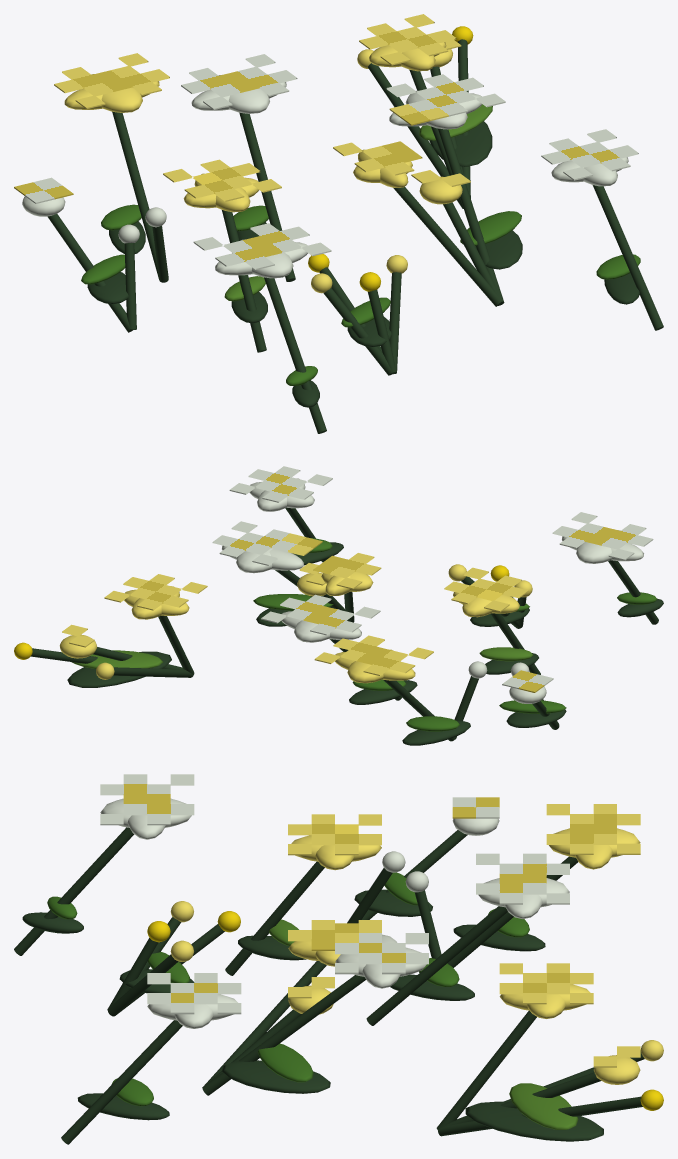
Rendered from CMU3DFlowersy1.glb.
3 views of the same model, one above another, from view 1: azimuth 30°, elevation 25°; view 2: azimuth 150°, elevation 25°; view 3: azimuth 270°, elevation 25° (orthographic). The views are drawn at different scales.
Visible parts, largest first — view 1: bloom 9 original petal colors, bloom 3 original petal colors, bloom 16 original petal colors, bloom 6 original petal colors, bloom 5 original petal colors, bloom 11 original petal colors, bloom 15 original petal colors, bloom 12 original petal colors, bloom 15 branching stem, bloom 12 branching stem, bloom 9 branching stem, bloom 16 branching stem (+30 smaller); view 2: bloom 9 original petal colors, bloom 16 original petal colors, bloom 3 original petal colors, bloom 6 original petal colors, bloom 15 original petal colors, bloom 5 original petal colors, bloom 11 original petal colors, bloom 12 original petal colors, foliage 1 low leaf, foliage 1 raised leaf, foliage 2 low leaf, foliage 3 low leaf (+30 smaller); view 3: bloom 9 original petal colors, bloom 16 original petal colors, bloom 6 original petal colors, bloom 3 original petal colors, bloom 15 original petal colors, foliage 1 low leaf, bloom 5 original petal colors, bloom 11 original petal colors, foliage 5 low leaf, bloom 6 branching stem, foliage 1 raised leaf, bloom 15 branching stem (+44 smaller).
Part boxes in pixels (left/top/right/bottom): bloom 9 original petal colors: left=386, top=74, right=505, bottom=125; bloom 3 original petal colors: left=54, top=53, right=169, bottom=109; bloom 16 original petal colors: left=193, top=223, right=331, bottom=269; bloom 6 original petal colors: left=181, top=54, right=297, bottom=109; bloom 5 original petal colors: left=359, top=14, right=456, bottom=65; bloom 11 original petal colors: left=163, top=159, right=281, bottom=201; bloom 15 original petal colors: left=541, top=129, right=638, bottom=180; bloom 12 original petal colors: left=333, top=141, right=422, bottom=175; bloom 15 branching stem: left=592, top=185, right=663, bottom=330; bloom 12 branching stem: left=393, top=187, right=501, bottom=306; bloom 9 branching stem: left=437, top=128, right=504, bottom=305; bloom 16 branching stem: left=264, top=277, right=326, bottom=433; bloom 9 original petal colors: left=212, top=521, right=322, bottom=565; bloom 16 original petal colors: left=552, top=512, right=653, bottom=560; bloom 3 original petal colors: left=314, top=635, right=433, bottom=675; bloom 6 original petal colors: left=261, top=594, right=380, bottom=635; bloom 15 original petal colors: left=229, top=466, right=332, bottom=502; bloom 5 original petal colors: left=104, top=574, right=207, bottom=610; bloom 11 original petal colors: left=444, top=567, right=528, bottom=612; bloom 12 original petal colors: left=313, top=553, right=381, bottom=589; foliage 1 low leaf: left=67, top=651, right=171, bottom=687; foliage 1 raised leaf: left=71, top=650, right=163, bottom=668; foliage 2 low leaf: left=402, top=721, right=470, bottom=745; foliage 3 low leaf: left=349, top=680, right=417, bottom=704; bloom 9 original petal colors: left=335, top=923, right=428, bottom=974; bloom 16 original petal colors: left=100, top=774, right=194, bottom=825; bloom 6 original petal colors: left=476, top=853, right=569, bottom=904; bloom 3 original petal colors: left=546, top=804, right=640, bottom=854; bloom 15 original petal colors: left=147, top=973, right=241, bottom=1014; foliage 1 low leaf: left=465, top=1101, right=603, bottom=1141; bloom 5 original petal colors: left=499, top=963, right=593, bottom=1004; bloom 11 original petal colors: left=288, top=814, right=381, bottom=855; foliage 5 low leaf: left=222, top=1060, right=330, bottom=1093; bloom 6 branching stem: left=366, top=906, right=507, bottom=1025; foliage 1 raised leaf: left=509, top=1083, right=578, bottom=1129; bloom 15 branching stem: left=61, top=1020, right=182, bottom=1144.
Bounding box in the file's own units: 0.875 × 0.2316 × 0.8647.
17 materials, 11 textured.
